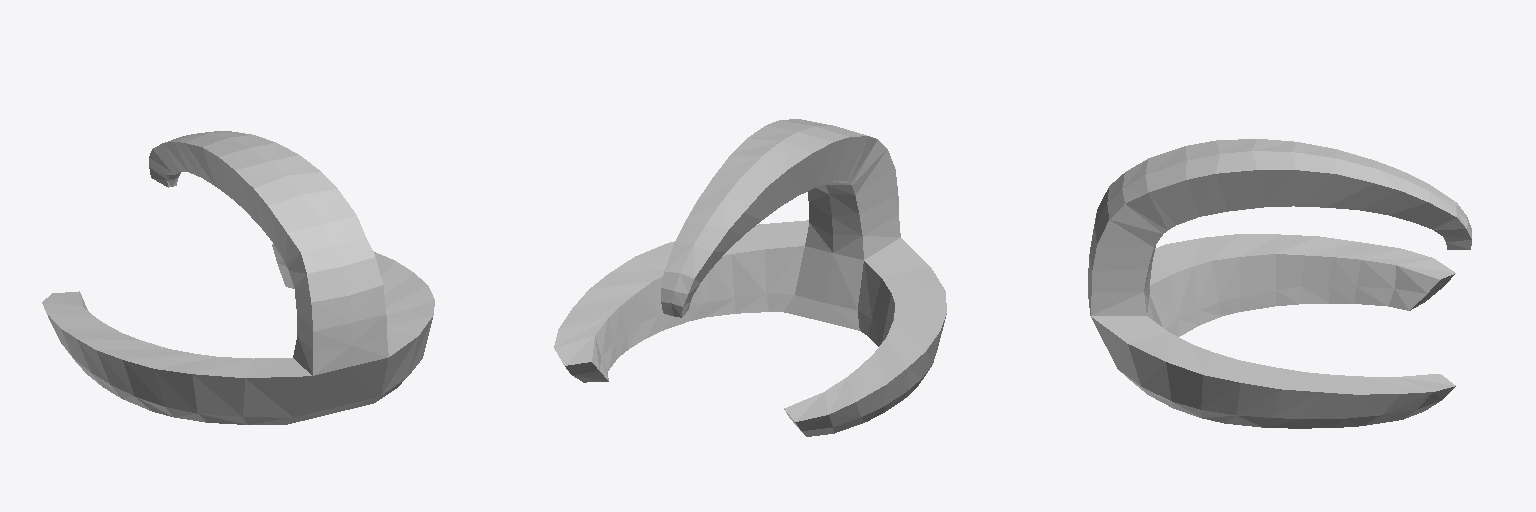
The model's file is starbase.obj.
The picture shows the model from 3 angles: view 1: azimuth 30°, elevation 25°; view 2: azimuth 150°, elevation 25°; view 3: azimuth 270°, elevation 25°; orthographic projection.
Visible parts, largest first — view 1: Starbase_half; view 2: Starbase_half; view 3: Starbase_half.
Part boxes in pixels (left/top/right/bottom): Starbase_half: left=42, top=131, right=434, bottom=424; Starbase_half: left=554, top=119, right=946, bottom=436; Starbase_half: left=1088, top=139, right=1471, bottom=428.
Size of the model in its own units: 30.16 by 18.94 by 31.41.